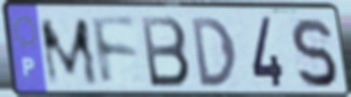4: (249, 14, 286, 91)
B: (138, 14, 193, 90)
D: (188, 15, 240, 90)
F: (88, 14, 141, 90)
M: (36, 16, 102, 89)
S: (288, 15, 340, 90)
